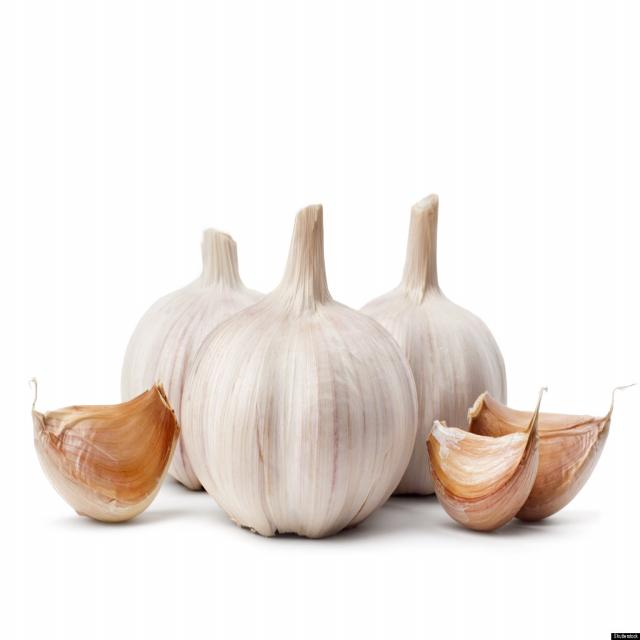garlic: (182, 249, 420, 536), (408, 199, 509, 405), (32, 383, 176, 523), (426, 419, 530, 528), (532, 394, 616, 528)
